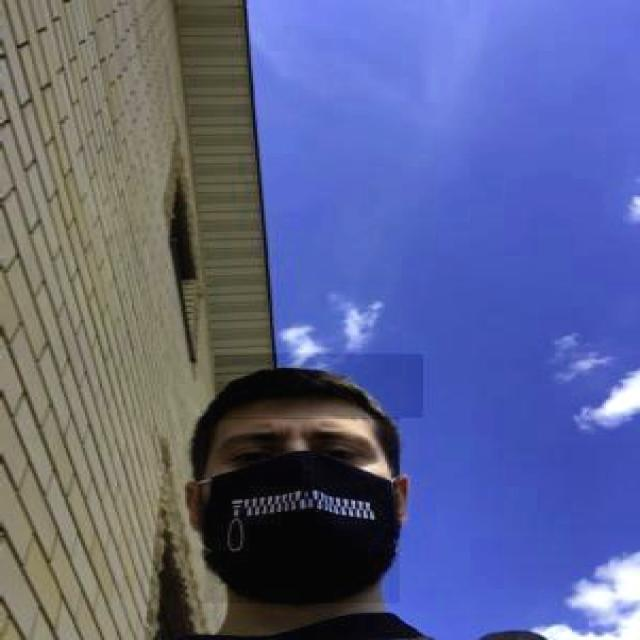face_mask: (202, 418, 400, 604)
head_nohelmet: (213, 354, 423, 419)
